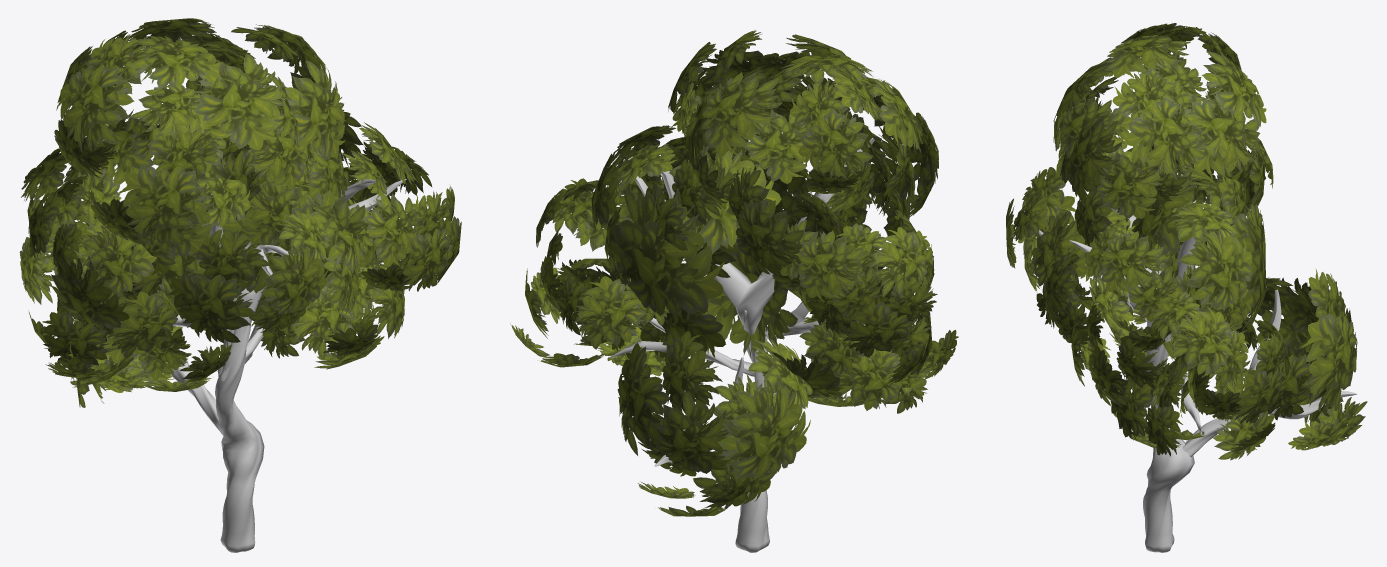
The model's file is SM_Prop_Tree1.fbx.
3 renders of one model, left to right at view 1: azimuth 30°, elevation 25°; view 2: azimuth 150°, elevation 25°; view 3: azimuth 270°, elevation 25°, orthographic. The views are drawn at different scales.
Parts seen in each view (by area): view 1: SM_Prop_Tree1; view 2: SM_Prop_Tree1; view 3: SM_Prop_Tree1.
Boxes of the visible parts, x1=… form: SM_Prop_Tree1: x1=19, y1=18, x2=461, y2=552; SM_Prop_Tree1: x1=510, y1=30, x2=958, y2=552; SM_Prop_Tree1: x1=1006, y1=23, x2=1367, y2=552.
Bounding box in the file's own units: 8.18 × 9.76 × 6.81.
